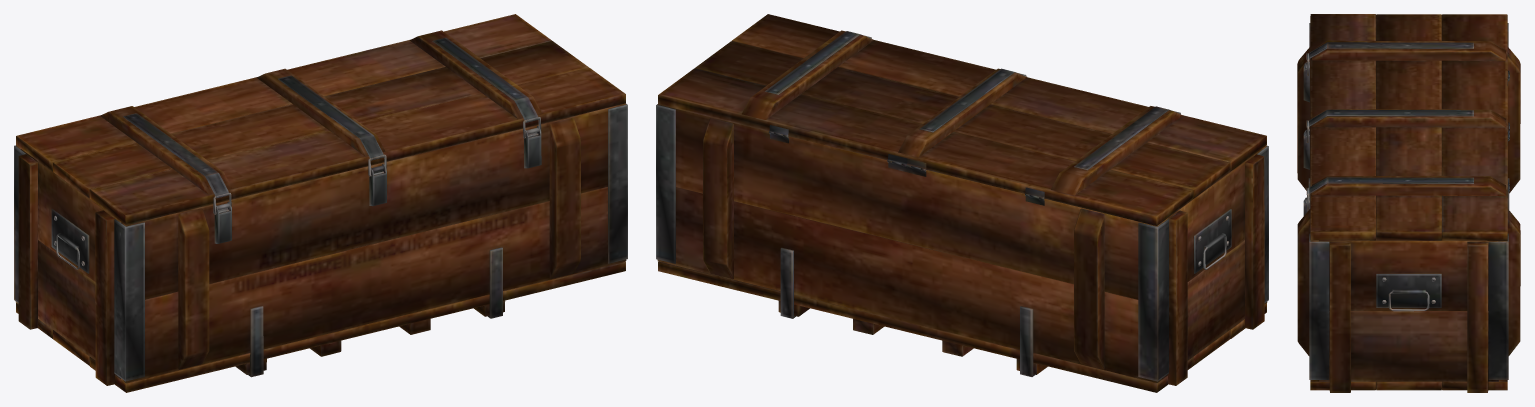
The model's file is crateRifle.glb.
3 renders of one model, left to right at view 1: azimuth 30°, elevation 25°; view 2: azimuth 150°, elevation 25°; view 3: azimuth 270°, elevation 25°, orthographic. The views are drawn at different scales.
Visible parts, largest first — view 1: wooden_military_crate, wooden_military_crate_lid; view 2: wooden_military_crate, wooden_military_crate_lid; view 3: wooden_military_crate_lid, wooden_military_crate.
Part boxes in pixels (left/top/right/bottom): wooden_military_crate: left=14, top=103, right=627, bottom=392; wooden_military_crate_lid: left=16, top=14, right=625, bottom=225; wooden_military_crate: left=656, top=104, right=1268, bottom=392; wooden_military_crate_lid: left=658, top=14, right=1266, bottom=225; wooden_military_crate_lid: left=1306, top=14, right=1509, bottom=240; wooden_military_crate: left=1297, top=23, right=1520, bottom=392.
Bounding box in the file's own units: 1.24 × 0.4639 × 0.5198.
1 material, 1 textured.
